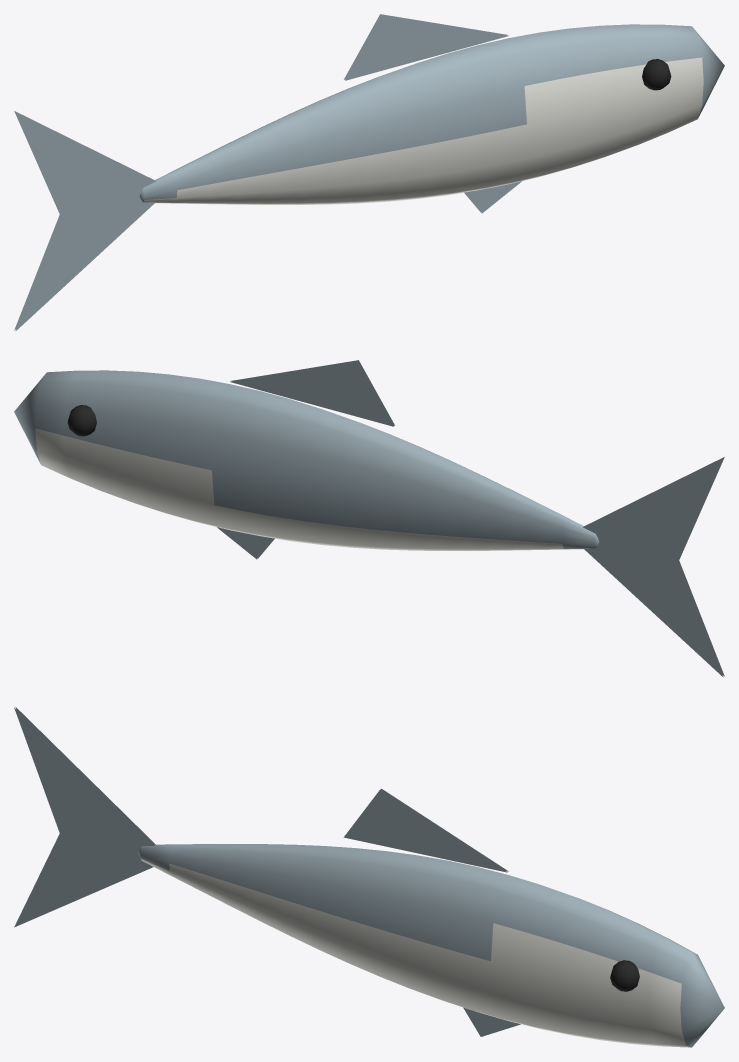
The model's file is ITEM_RawFish.fbx.
The picture shows the model from 3 angles, top to bottom: view 1: azimuth 30°, elevation 25°; view 2: azimuth 150°, elevation 25°; view 3: azimuth 330°, elevation 25°; orthographic projection.
Visible parts, largest first — view 1: ITEM_RawFish; view 2: ITEM_RawFish; view 3: ITEM_RawFish.
Part boxes in pixels (bbox=[...]): ITEM_RawFish: bbox=[14, 14, 724, 331]; ITEM_RawFish: bbox=[14, 360, 724, 677]; ITEM_RawFish: bbox=[14, 707, 724, 1047].
Size of the model in its own units: 0.388 by 0.1188 by 0.044.
